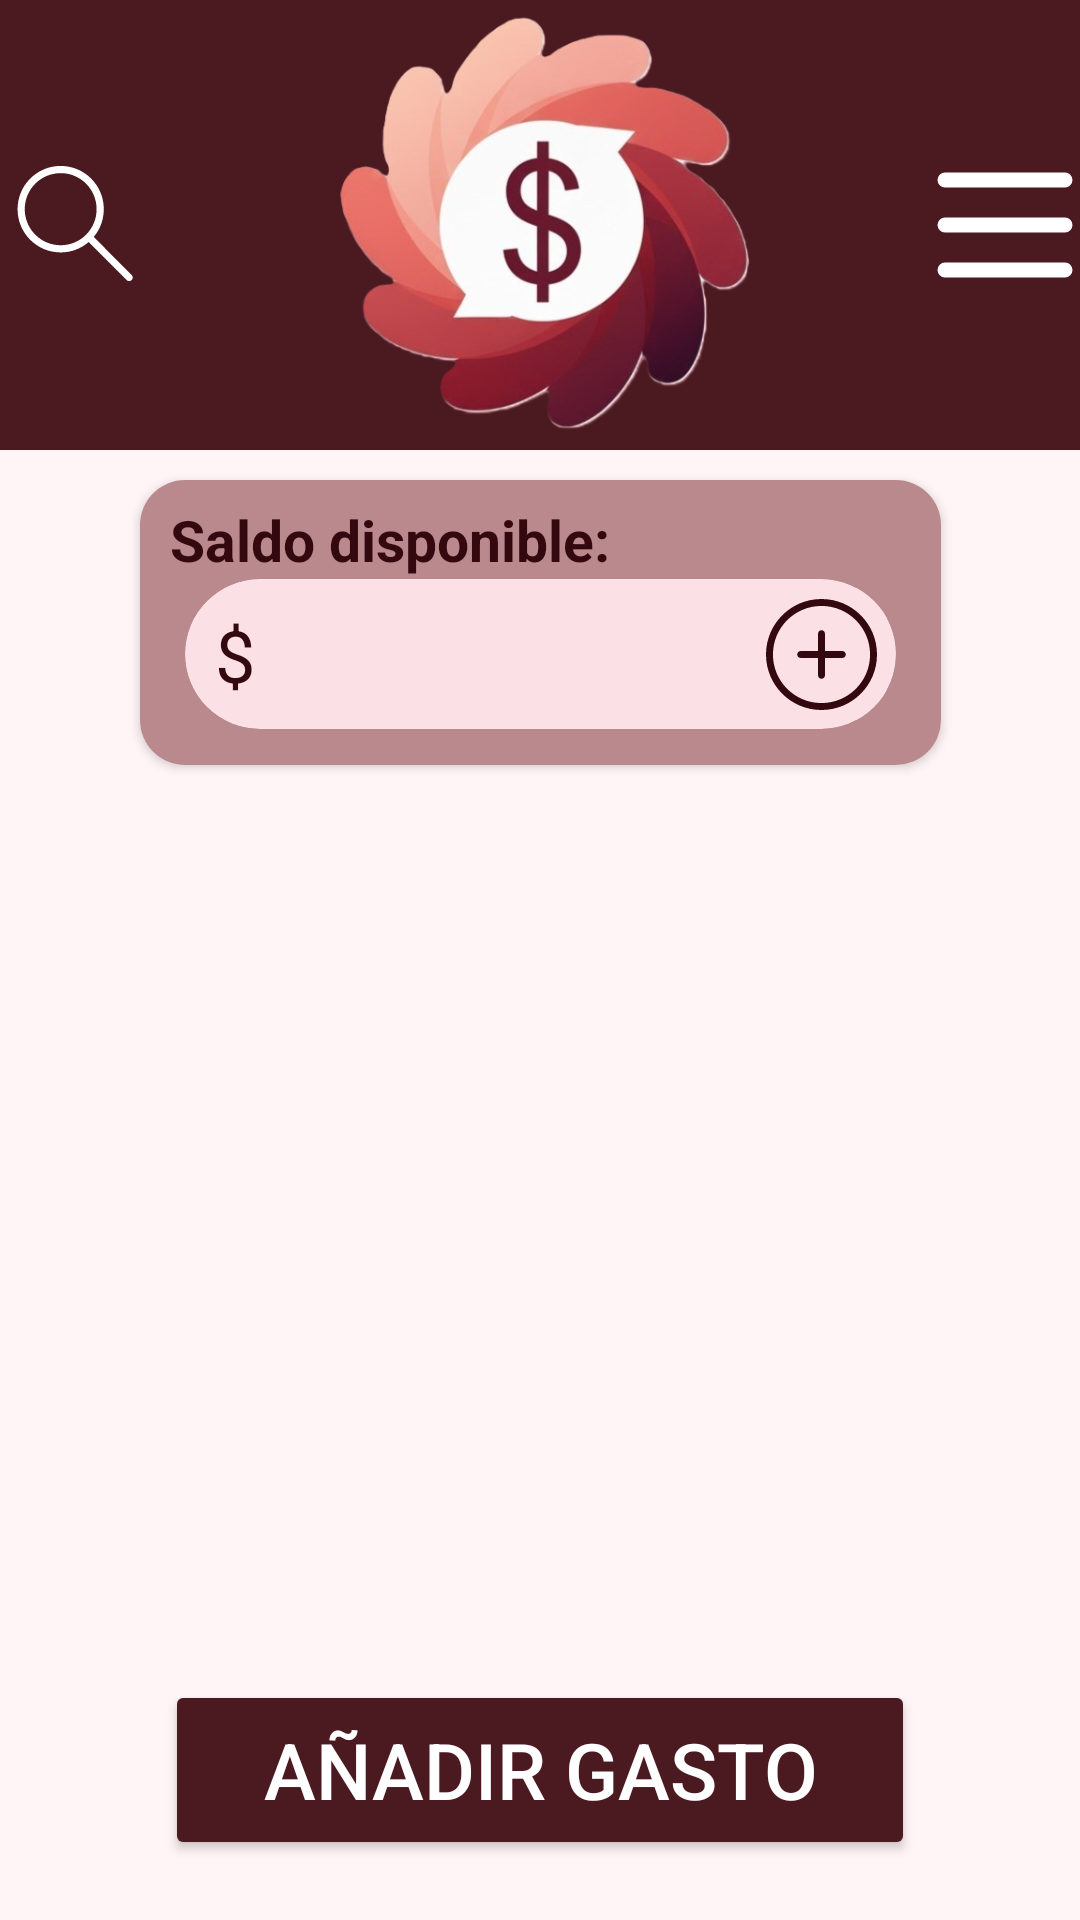

Where to tap for icons on this 1080*1920 app screen, as (x=x, y=y):
plus: (x=821, y=654)
